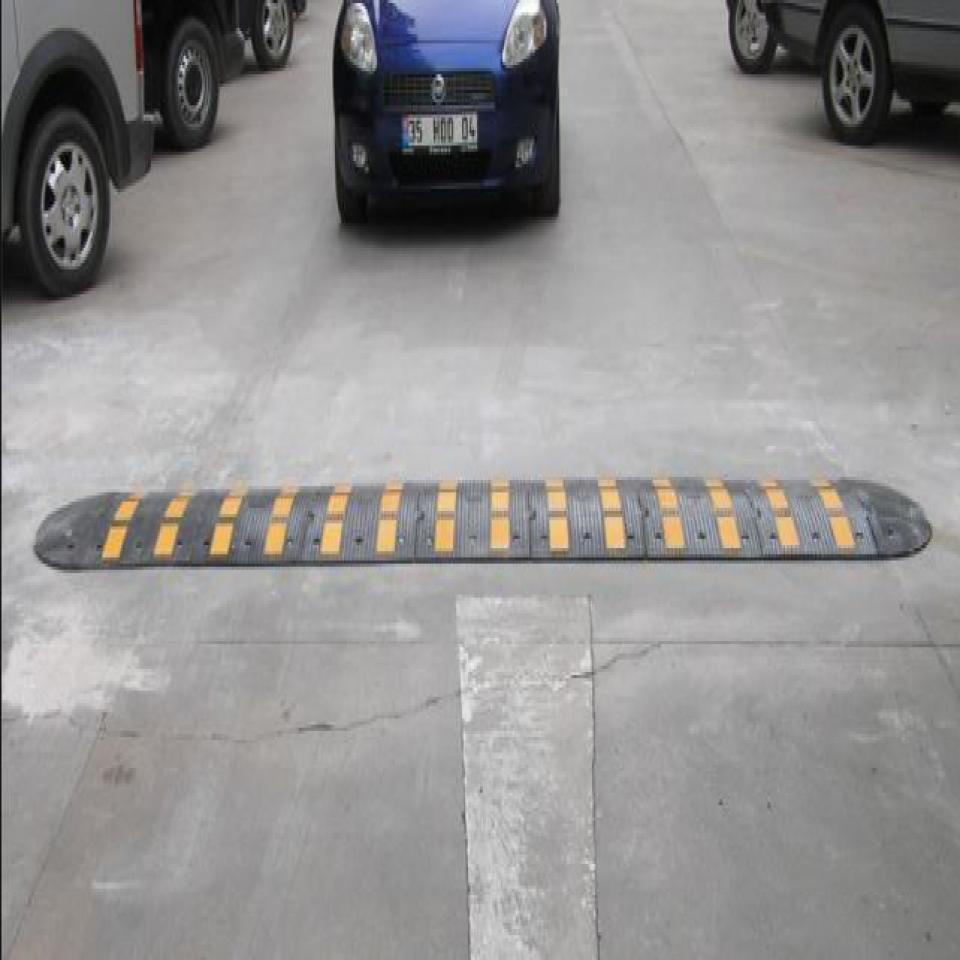speedbreaker: (43, 474, 923, 564)
